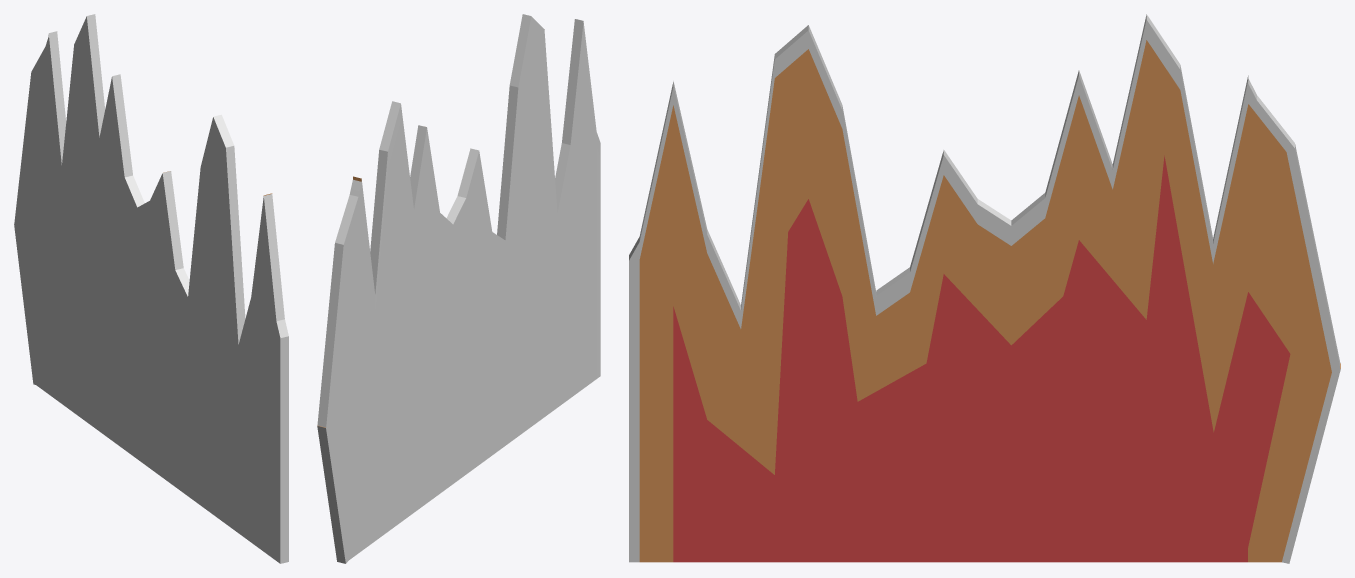
File: Fire3.fbx
3 views of the same model, side by side, from view 1: azimuth 30°, elevation 25°; view 2: azimuth 150°, elevation 25°; view 3: azimuth 270°, elevation 25° (orthographic). The views are drawn at different scales.
Visible parts, largest first — view 1: Cube; view 2: Cube; view 3: Cube.
Part boxes in pixels (left/top/right/bottom): Cube: left=14, top=14, right=288, bottom=563; Cube: left=317, top=14, right=600, bottom=563; Cube: left=629, top=14, right=1340, bottom=563.
Bounding box in the file's own units: 6.06 × 278 × 330.
